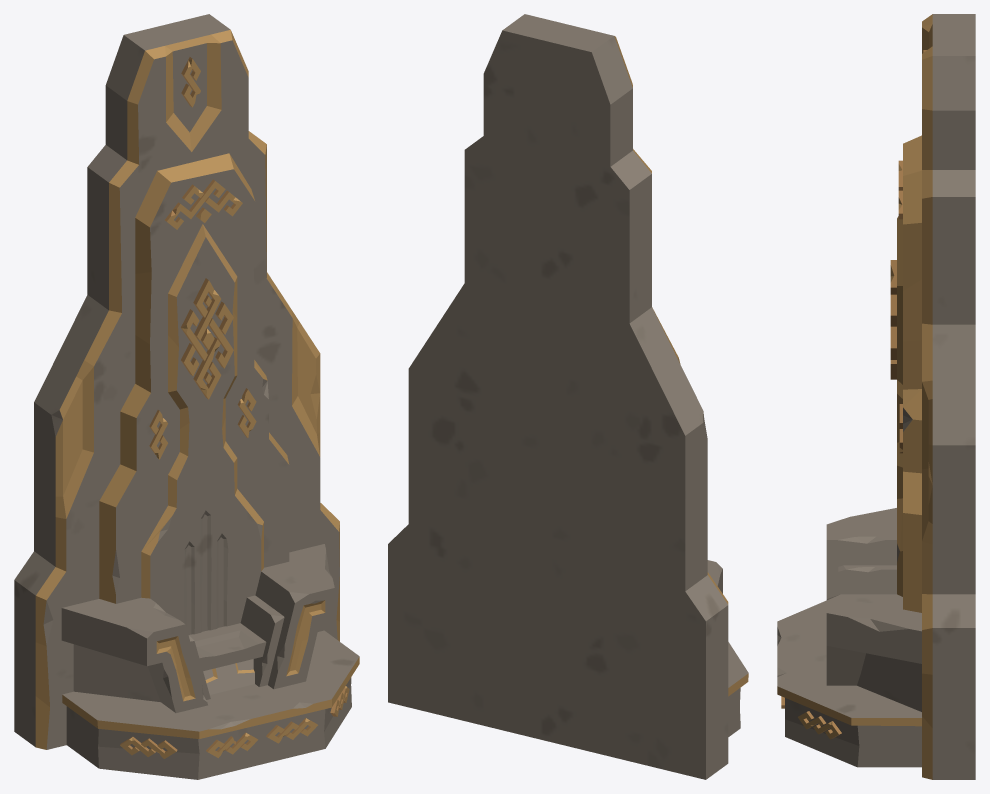
File: forge_throne.gltf
3 renders of one model, left to right at view 1: azimuth 30°, elevation 25°; view 2: azimuth 150°, elevation 25°; view 3: azimuth 270°, elevation 25°, orthographic. The views are drawn at different scales.
Parts seen in each view (by area): view 1: forge_throne; view 2: forge_throne; view 3: forge_throne.
Part boxes in pixels (<box>): forge_throne: <box>14,14,359,779</box>; forge_throne: <box>388,14,748,779</box>; forge_throne: <box>777,14,975,779</box>.
Bounding box in the file's own units: 2.05 × 4.32 × 1.16.
1 material, 1 textured.
